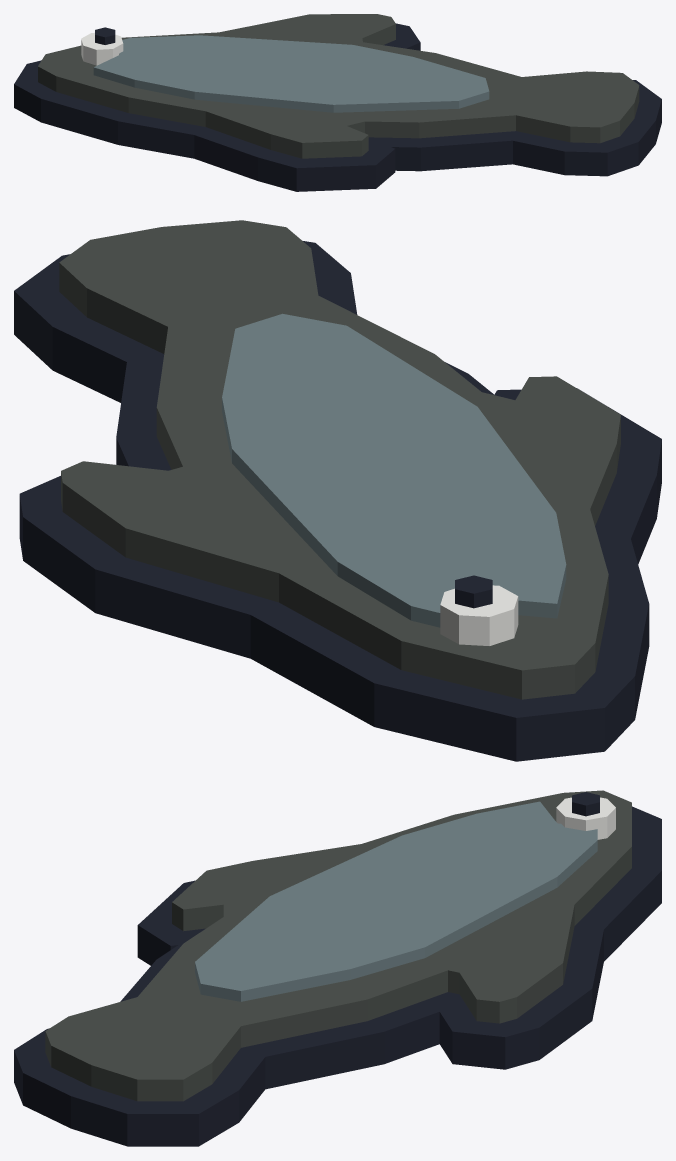
Rendered from fish.fbx.
3 views of the same model, one above another, from view 1: azimuth 30°, elevation 25°; view 2: azimuth 150°, elevation 25°; view 3: azimuth 270°, elevation 25° (orthographic). The views are drawn at different scales.
Parts seen in each view (by area): view 1: fish; view 2: fish; view 3: fish.
Part boxes in pixels (x1,y1,x2,y2): fish: (14, 14, 661, 191); fish: (14, 220, 661, 761); fish: (14, 790, 661, 1146).
Bounding box in the file's own units: 1.25 × 0.16 × 1.08.
Materials: 1 (1 with a texture image).
